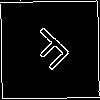F: (25, 25, 79, 78)
